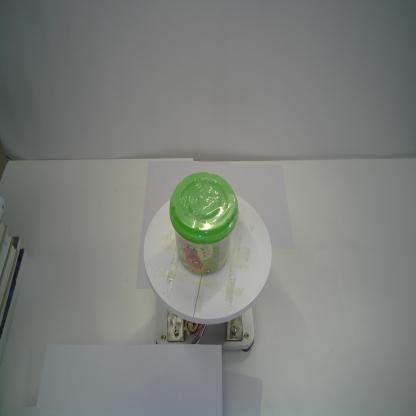Instant Drink: (167, 168, 240, 279)
